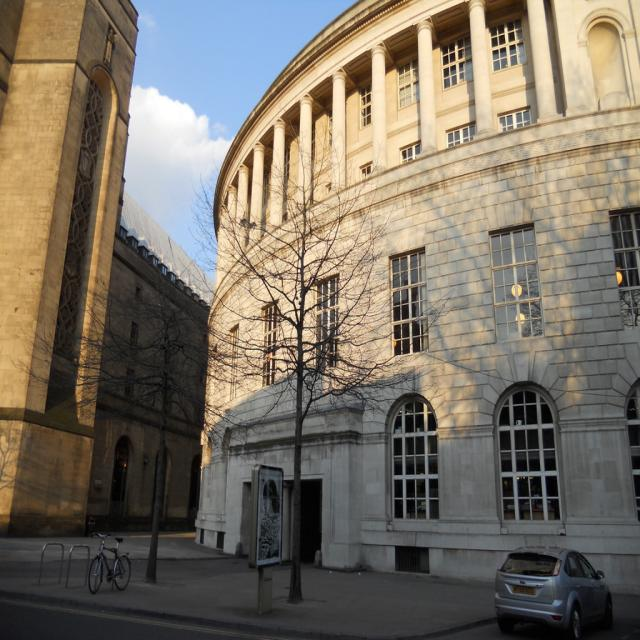car: (491, 550, 615, 632)
